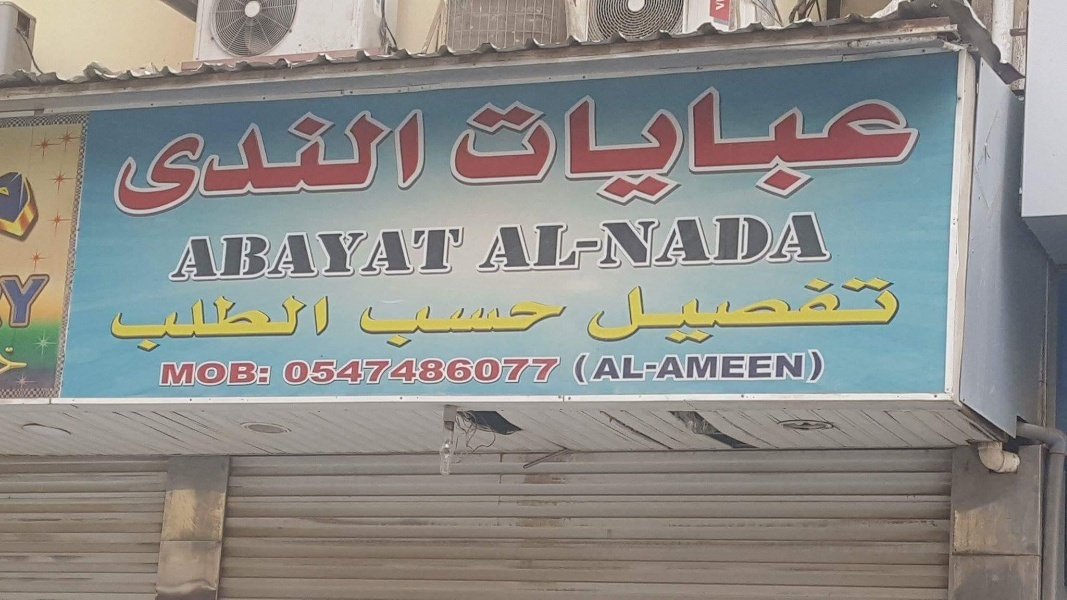text: (449, 77, 464, 210), (465, 77, 480, 210), (481, 77, 496, 210), (497, 77, 512, 210), (513, 77, 528, 210), (529, 77, 544, 210), (545, 77, 560, 210), (561, 77, 576, 210), (577, 77, 592, 210), (593, 77, 608, 210), (609, 77, 624, 210), (625, 77, 640, 210), (641, 77, 656, 210), (657, 77, 672, 210), (673, 77, 688, 210), (689, 77, 704, 210), (705, 77, 720, 210), (721, 77, 736, 210), (737, 77, 752, 210), (753, 77, 768, 210), (769, 77, 784, 210), (785, 77, 800, 210), (801, 77, 816, 210), (817, 77, 832, 210), (833, 77, 848, 210), (849, 77, 864, 210), (865, 77, 880, 210), (881, 77, 896, 210), (897, 77, 912, 210), (129, 102, 144, 221), (145, 102, 160, 221), (161, 102, 176, 221), (177, 102, 192, 221), (193, 102, 208, 221), (209, 102, 224, 221), (225, 102, 240, 221), (241, 102, 256, 221), (257, 102, 272, 221), (273, 102, 288, 221), (289, 102, 304, 221), (305, 102, 320, 221), (321, 102, 336, 221), (337, 102, 352, 221), (353, 102, 368, 221), (369, 102, 384, 221), (385, 102, 400, 221), (401, 102, 416, 221), (115, 102, 128, 221), (913, 77, 922, 210), (417, 102, 427, 221), (1, 168, 16, 247), (17, 168, 32, 247), (593, 276, 608, 347), (609, 276, 624, 347), (625, 276, 640, 347), (641, 276, 656, 347), (657, 276, 672, 347), (673, 276, 688, 347), (689, 276, 704, 347), (705, 276, 720, 347), (721, 276, 736, 347), (737, 276, 752, 347), (753, 276, 768, 347), (769, 276, 784, 347), (785, 276, 800, 347), (801, 276, 816, 347), (817, 276, 832, 347), (833, 276, 848, 347), (849, 276, 864, 347), (865, 276, 880, 347), (881, 276, 896, 347), (1, 269, 16, 332), (17, 269, 32, 332), (33, 269, 48, 332), (481, 211, 496, 274), (497, 211, 512, 274), (513, 211, 528, 274), (529, 211, 544, 274), (545, 211, 560, 274), (561, 211, 576, 274), (577, 211, 592, 274), (593, 211, 608, 274), (609, 211, 624, 274), (625, 211, 640, 274), (641, 211, 656, 274), (657, 211, 672, 274), (673, 211, 688, 274), (689, 211, 704, 274), (705, 211, 720, 274), (721, 211, 736, 274), (737, 211, 752, 274), (753, 211, 768, 274), (769, 211, 784, 274), (785, 211, 800, 274), (801, 211, 816, 274), (817, 211, 832, 274), (113, 294, 128, 354), (129, 294, 144, 354), (145, 294, 160, 354), (161, 294, 176, 354), (177, 294, 192, 354), (193, 294, 208, 354), (209, 294, 224, 354), (225, 294, 240, 354), (241, 294, 256, 354), (257, 294, 272, 354), (273, 294, 288, 354), (289, 294, 304, 354), (305, 294, 320, 354), (177, 225, 192, 284), (193, 225, 208, 284), (209, 225, 224, 284), (225, 225, 240, 284), (241, 225, 256, 284), (257, 225, 272, 284), (273, 225, 288, 284), (289, 225, 304, 284), (305, 225, 320, 284), (321, 225, 336, 284), (337, 225, 352, 284), (353, 225, 368, 284), (369, 225, 384, 284), (385, 225, 400, 284), (401, 225, 416, 284), (417, 225, 432, 284), (433, 225, 448, 284), (449, 225, 464, 284), (369, 299, 384, 348), (385, 299, 400, 348), (401, 299, 416, 348), (417, 299, 432, 348), (433, 299, 448, 348), (449, 299, 464, 348), (465, 299, 480, 348), (481, 299, 496, 348), (497, 299, 512, 348), (513, 299, 528, 348), (529, 299, 544, 348), (545, 299, 560, 348), (33, 168, 42, 247), (355, 299, 368, 348), (321, 294, 331, 354), (1, 347, 16, 381), (17, 347, 32, 381), (577, 352, 592, 384), (593, 352, 608, 384), (609, 352, 624, 384), (625, 352, 640, 384), (641, 352, 656, 384), (657, 352, 672, 384), (673, 352, 688, 384), (689, 352, 704, 384), (705, 352, 720, 384), (721, 352, 736, 384), (737, 352, 752, 384), (753, 352, 768, 384), (769, 352, 784, 384), (785, 352, 800, 384), (801, 352, 816, 384), (289, 356, 304, 387), (305, 356, 320, 387), (321, 356, 336, 387), (337, 356, 352, 387), (353, 356, 368, 387), (369, 356, 384, 387), (385, 356, 400, 387), (401, 356, 416, 387), (417, 356, 432, 387), (433, 356, 448, 387), (449, 356, 464, 387), (465, 356, 480, 387), (481, 356, 496, 387), (497, 356, 512, 387), (513, 356, 528, 387), (529, 356, 544, 387), (545, 356, 560, 387), (161, 358, 176, 388), (177, 358, 192, 388), (193, 358, 208, 388), (209, 358, 224, 388), (225, 358, 240, 388), (241, 358, 256, 388), (561, 299, 570, 348), (257, 358, 271, 388), (817, 352, 829, 384), (587, 276, 592, 347), (171, 225, 176, 284), (897, 276, 901, 347), (446, 77, 448, 210), (108, 294, 112, 354), (281, 356, 288, 387), (49, 269, 52, 332), (573, 352, 576, 384), (561, 356, 564, 387), (479, 211, 480, 274), (833, 211, 834, 274), (465, 225, 466, 284)
